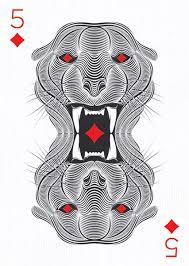five of diamonds: (2, 5, 189, 259)
